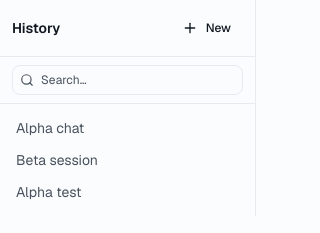
Test: ChatHistorySidebar search filter › filters conversations by title substring (case-insensitive)
expect the button "Alpha chat" is shown: met, box [8,112,155,144]
Note: Type in the search box
Type "alpha" into the search field.
click(128, 80); type("alpha")  # box [12,65,243,95]
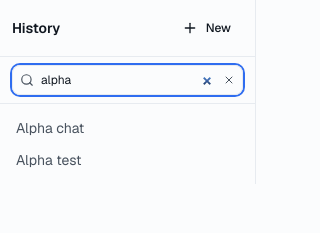
expect the button "Alpha chat" is shown: met, box [8,112,155,144]
expect the button "Beta session" is gone: met
